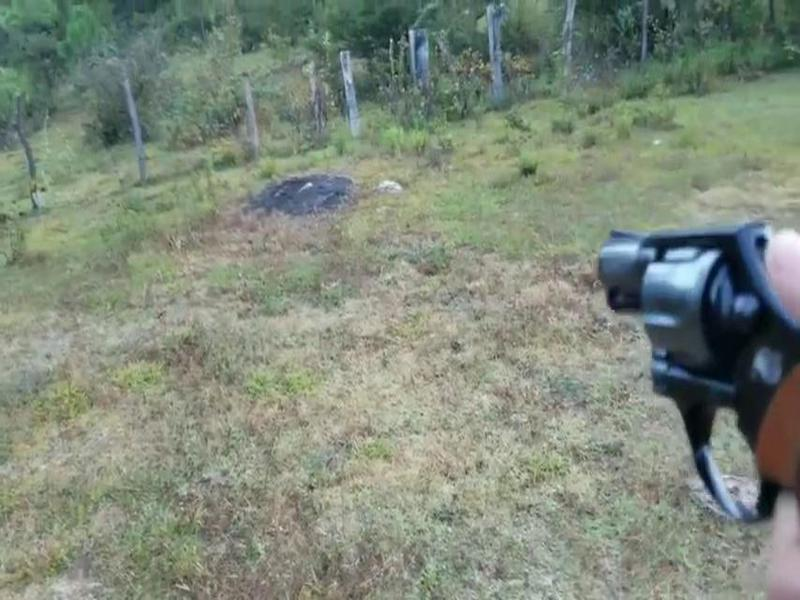Revolver: (537, 173, 800, 541)
